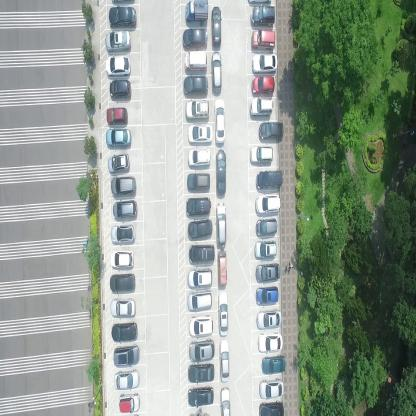car: (188, 337, 216, 361), (109, 5, 137, 27), (189, 314, 213, 339), (114, 344, 140, 367), (188, 361, 215, 383), (187, 385, 214, 407), (255, 167, 281, 189), (182, 27, 208, 49), (186, 122, 212, 144), (186, 216, 212, 238), (110, 174, 136, 196), (109, 270, 135, 292), (114, 369, 140, 391), (186, 290, 212, 312), (187, 267, 213, 289), (105, 127, 132, 148), (110, 322, 138, 342), (185, 0, 209, 23), (112, 197, 136, 220), (257, 308, 282, 330), (111, 297, 136, 319), (104, 54, 131, 74), (214, 96, 225, 144), (184, 51, 208, 73), (185, 98, 209, 120), (252, 52, 277, 73), (258, 119, 283, 140), (106, 30, 131, 51), (259, 377, 284, 398), (254, 192, 280, 212), (110, 223, 136, 243), (189, 243, 215, 263), (107, 151, 129, 174), (219, 337, 230, 383), (251, 74, 275, 95), (186, 147, 210, 168), (110, 247, 134, 268), (256, 262, 281, 282), (211, 3, 222, 48), (249, 143, 273, 163), (186, 171, 210, 191), (108, 78, 132, 98), (216, 147, 226, 195), (248, 97, 273, 116), (186, 196, 211, 215), (261, 354, 286, 373), (216, 199, 226, 246), (251, 5, 275, 24), (252, 29, 276, 48), (258, 333, 282, 352), (183, 76, 208, 94), (218, 290, 228, 335), (119, 392, 141, 412), (212, 51, 222, 93), (255, 238, 277, 257), (105, 106, 128, 124), (254, 216, 276, 234), (256, 285, 278, 303), (259, 400, 284, 415), (218, 250, 228, 287), (219, 386, 231, 415)
